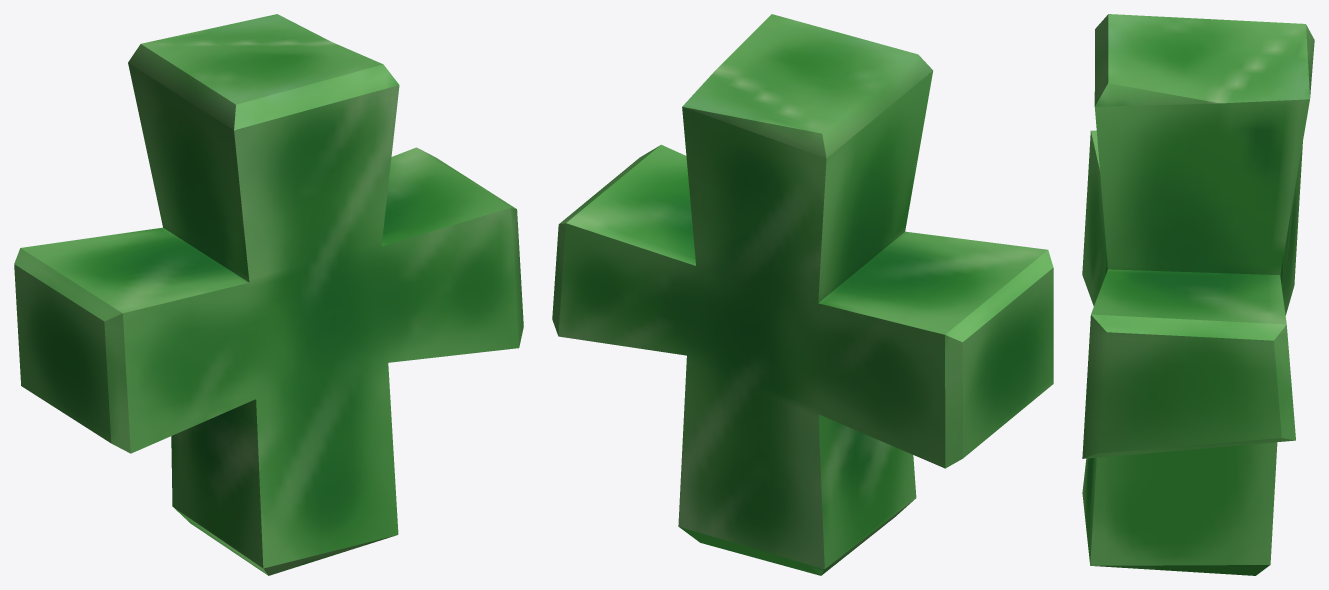
The model's file is Sign_Sum.fbx.
The picture shows the model from 3 angles, left to right: view 1: azimuth 30°, elevation 25°; view 2: azimuth 150°, elevation 25°; view 3: azimuth 270°, elevation 25°; orthographic projection. The views are drawn at different scales.
Visible parts, largest first — view 1: Sign_Sum_Model; view 2: Sign_Sum_Model; view 3: Sign_Sum_Model.
Part boxes in pixels (<box>): Sign_Sum_Model: <box>14,14,523,575</box>; Sign_Sum_Model: <box>552,14,1053,575</box>; Sign_Sum_Model: <box>1082,14,1314,575</box>.
Bounding box in the file's own units: 207 × 229 × 97.01.
1 material, 1 textured.
